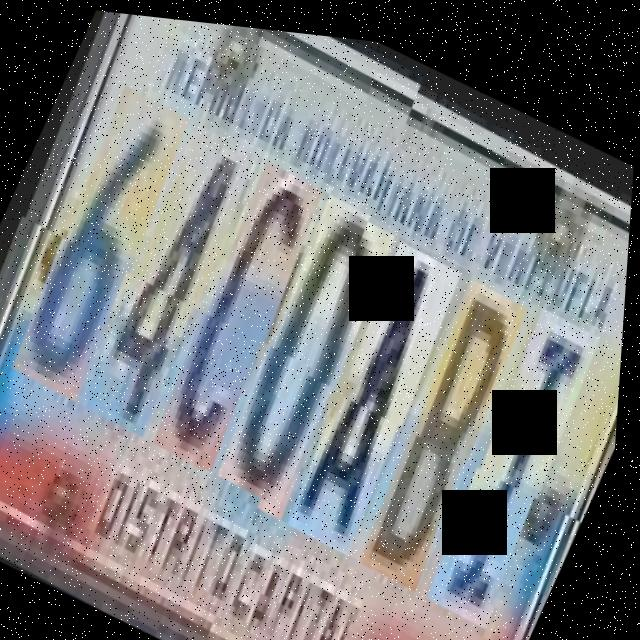4: (70, 116, 268, 448)
6: (0, 79, 200, 415)
A: (280, 219, 477, 553)
B: (355, 256, 545, 587)
C: (142, 151, 335, 482)
I: (422, 282, 619, 622)
O: (206, 182, 410, 519)
